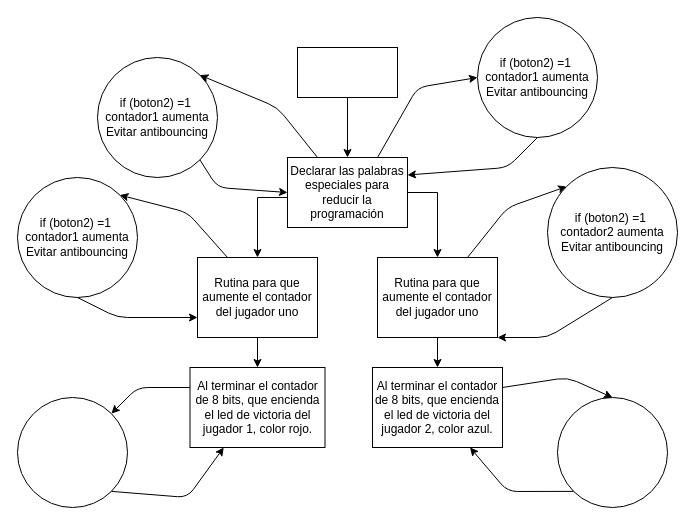
Some shapes in this 695 by 525 pixel diagram are drawn without their labels. The shapes that lost their labels are listed below. From the top down, each one's centre as x and y in pixels, then its label:
At (x=347, y=72): "Declarar variables de los contadores".
At (x=72, y=452): "if contador1 = 8 contador1 = 0 encender led rojo".
At (x=612, y=452): "if contado2 = 8 contador2 = 0 encender led azul".
